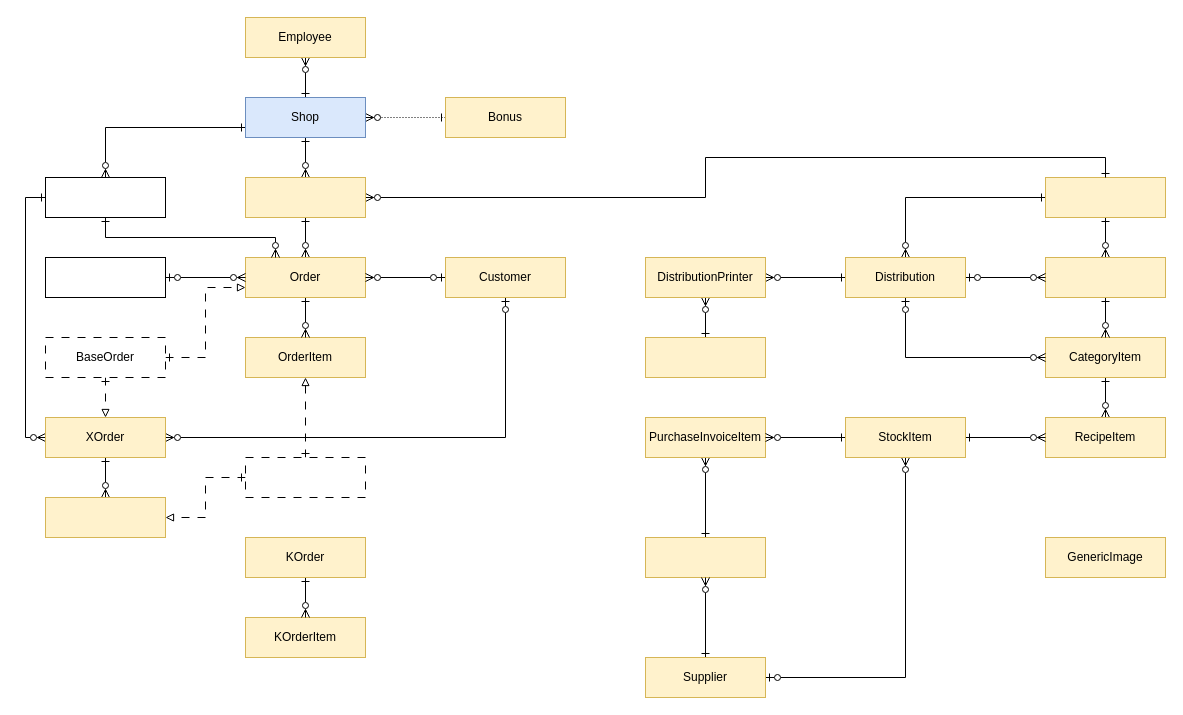
The diagram is 1183 pixels wide and 715 high, and some of its shapes have lost their labels. The shapes that lost their labels are listed below. From the top down, each one's centre as x and y in pixels, then its label:
At point (105, 197): "User".
At point (305, 197): "Session".
At point (1105, 197): "Menu".
At point (105, 277): "Table".
At point (1105, 277): "Category".
At point (705, 357): "Printer".
At point (305, 477): "BaseOrderItem".
At point (105, 517): "XOrderItem".
At point (705, 557): "PurchaseInvoice".
